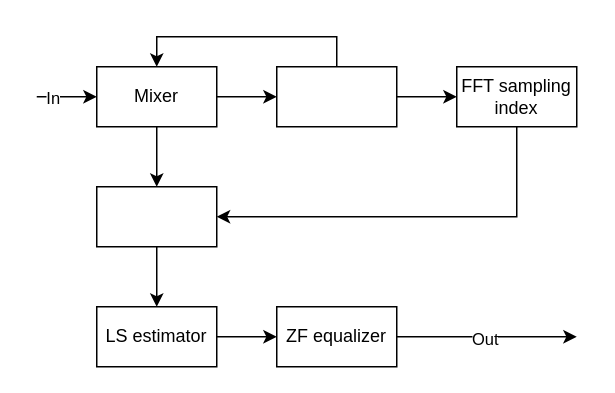
The diagram is 615 pixels wide and 393 high, and some of its shapes have lost their labels. Here are the shapes that lost their labels. From the top down, the centre of each, then its label:
At (336,96): "CP timing + FFO sync".
At (156,216): "FFT".
